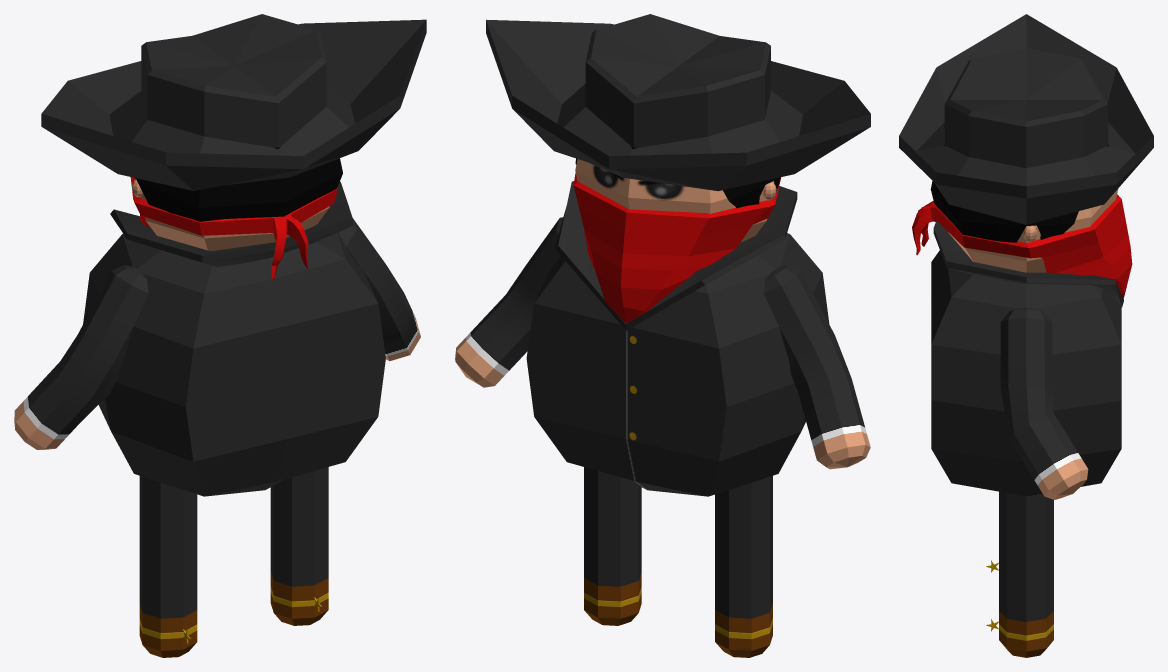
The model's file is Bandit.fbx.
The picture shows the model from 3 angles, left to right: view 1: azimuth 30°, elevation 25°; view 2: azimuth 150°, elevation 25°; view 3: azimuth 270°, elevation 25°; orthographic projection. The views are drawn at different scales.
Parts seen in each view (by area): view 1: bandit; view 2: bandit; view 3: bandit.
Part boxes in pixels (left/top/right/bottom): bandit: left=14, top=14, right=426, bottom=657; bandit: left=455, top=14, right=870, bottom=657; bandit: left=899, top=14, right=1153, bottom=657.
Size of the model in its own units: 3.79 by 5.28 by 2.25.
